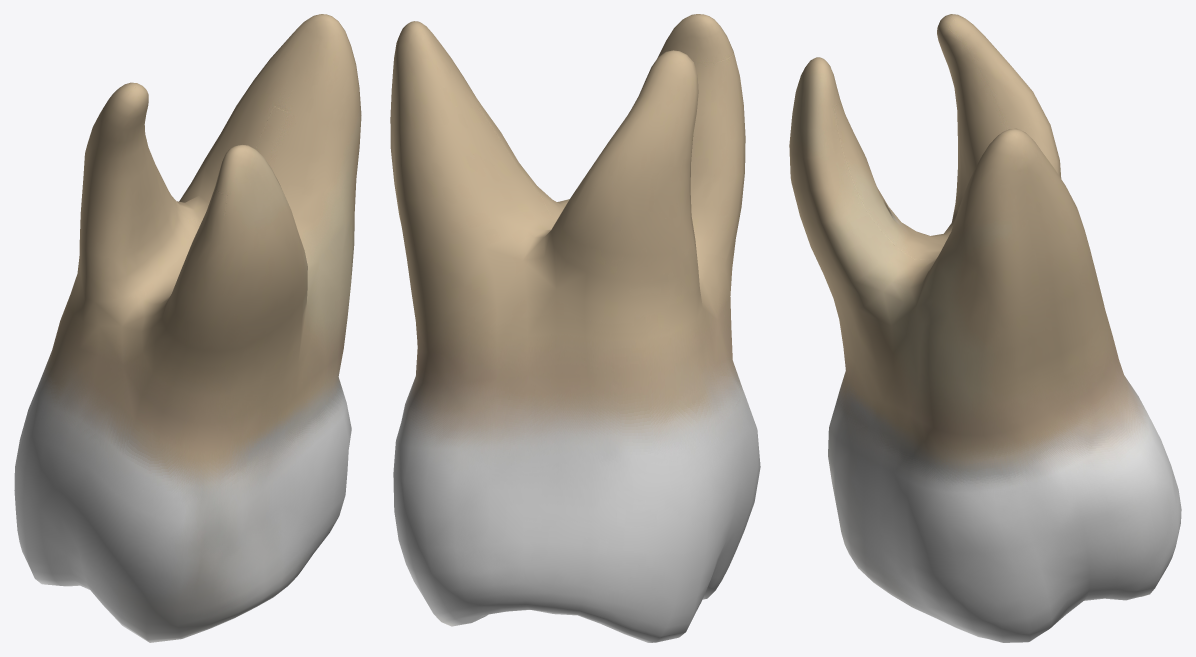
Rendered from tooth-16.glb.
The picture shows the model from 3 angles, left to right: view 1: azimuth 30°, elevation 25°; view 2: azimuth 150°, elevation 25°; view 3: azimuth 270°, elevation 25°; orthographic projection. The views are drawn at different scales.
Visible parts, largest first — view 1: polySurface8_blinn18_0; view 2: polySurface8_blinn18_0; view 3: polySurface8_blinn18_0.
Boxes of the visible parts, bbox=[...] form: polySurface8_blinn18_0: bbox=[14, 14, 361, 642]; polySurface8_blinn18_0: bbox=[390, 14, 760, 642]; polySurface8_blinn18_0: bbox=[789, 14, 1181, 642].
Bounding box in the file's own units: 0.4158 × 0.6744 × 0.4376.
Materials: 1 (1 with a texture image).
